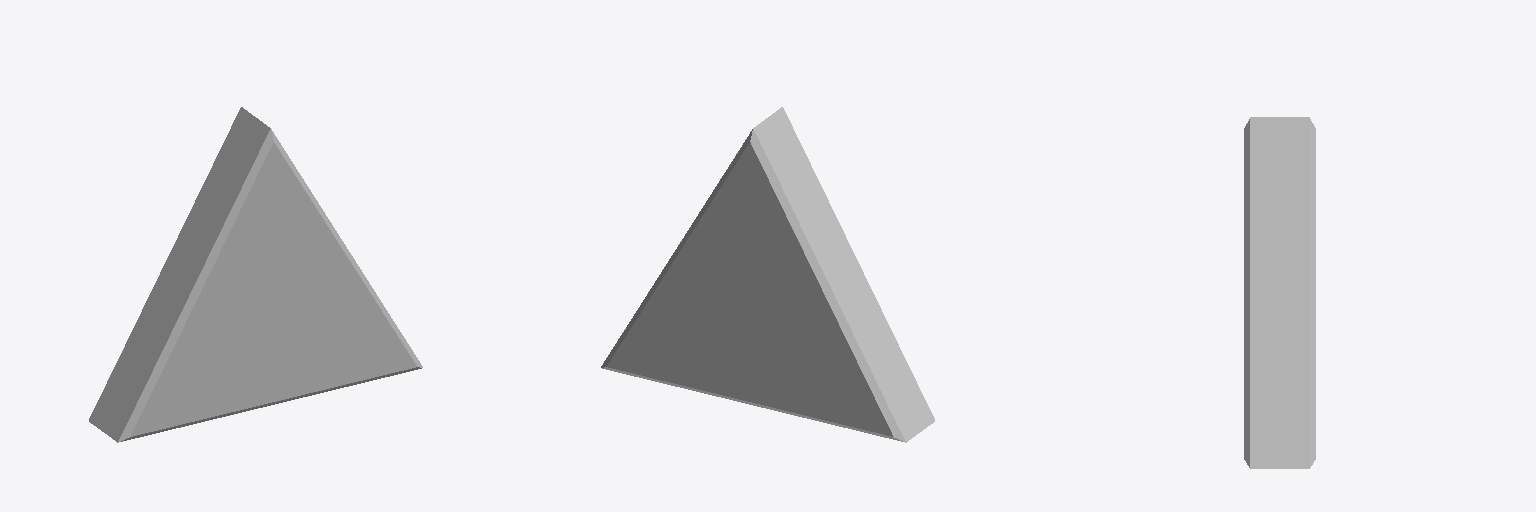
The model's file is triforce.obj.
3 views of the same model, side by side, from view 1: azimuth 30°, elevation 25°; view 2: azimuth 150°, elevation 25°; view 3: azimuth 270°, elevation 25° (orthographic).
Parts seen in each view (by area): view 1: triforce_Circle; view 2: triforce_Circle; view 3: triforce_Circle.
Boxes of the visible parts, x1=… form: triforce_Circle: x1=89, y1=107, x2=422, y2=442; triforce_Circle: x1=601, y1=107, x2=934, y2=442; triforce_Circle: x1=1244, y1=117, x2=1315, y2=468.
Size of the model in its own units: 1 by 0.8672 by 0.203.